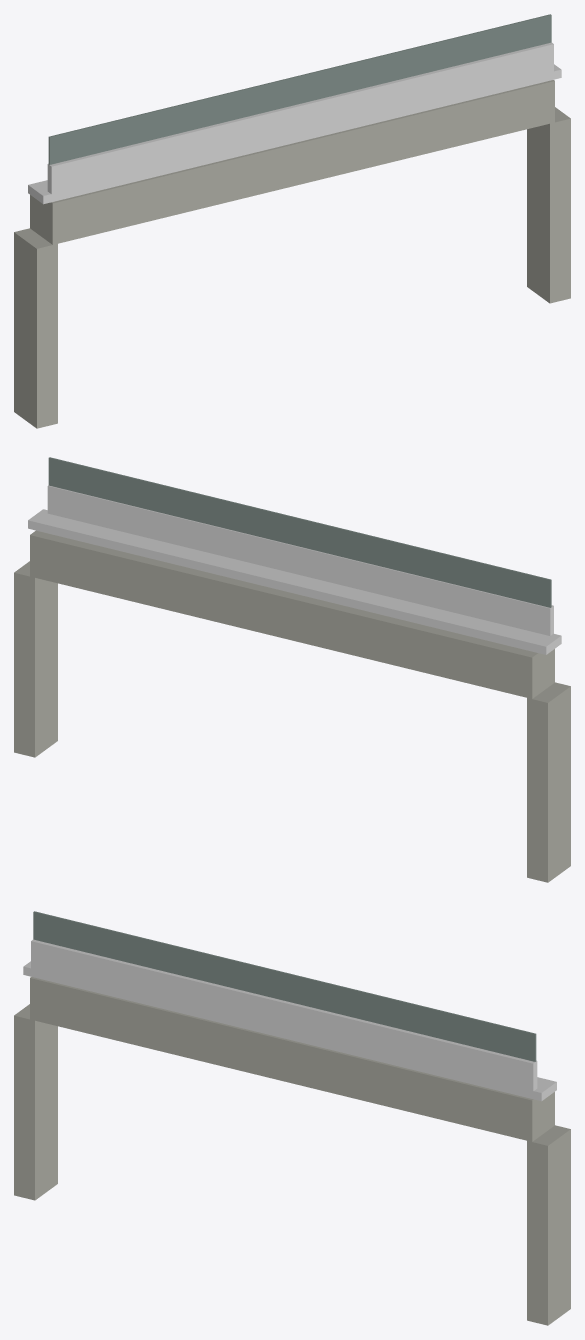
Rendered from SM_MuroTrinchera_Boca_v2_Malla_LOD1.fbx.
The picture shows the model from 3 angles, top to bottom: view 1: azimuth 30°, elevation 25°; view 2: azimuth 150°, elevation 25°; view 3: azimuth 330°, elevation 25°; orthographic projection.
Parts seen in each view (by area): view 1: SM_muro_trinchera_v7_LOD1; view 2: SM_muro_trinchera_v7_LOD1; view 3: SM_muro_trinchera_v7_LOD1.
Part boxes in pixels (x1,y1,x2,y2): SM_muro_trinchera_v7_LOD1: (14, 14, 570, 428); SM_muro_trinchera_v7_LOD1: (14, 457, 570, 882); SM_muro_trinchera_v7_LOD1: (14, 911, 570, 1325).
Size of the model in its own units: 20.2 by 10.3 by 1.5.
